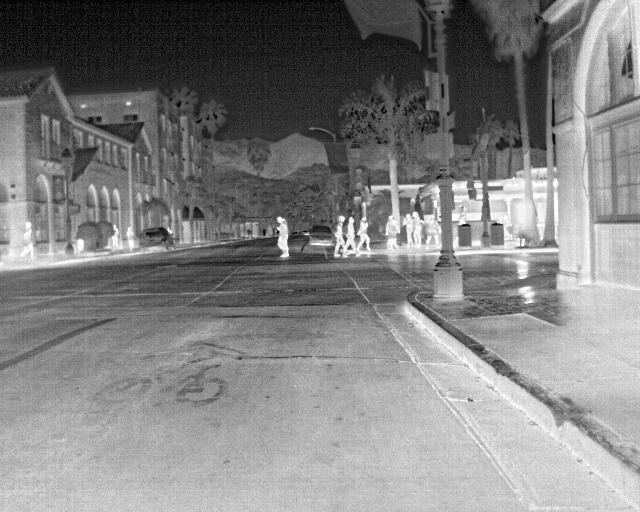bicycle: (139, 226, 174, 253), (308, 224, 336, 246)
empty: (274, 216, 292, 261), (17, 220, 35, 260), (332, 212, 348, 257), (355, 214, 372, 253), (421, 216, 440, 247), (383, 213, 398, 249), (402, 211, 415, 247), (414, 210, 426, 247), (345, 214, 357, 247), (124, 224, 137, 253), (108, 223, 121, 250)
